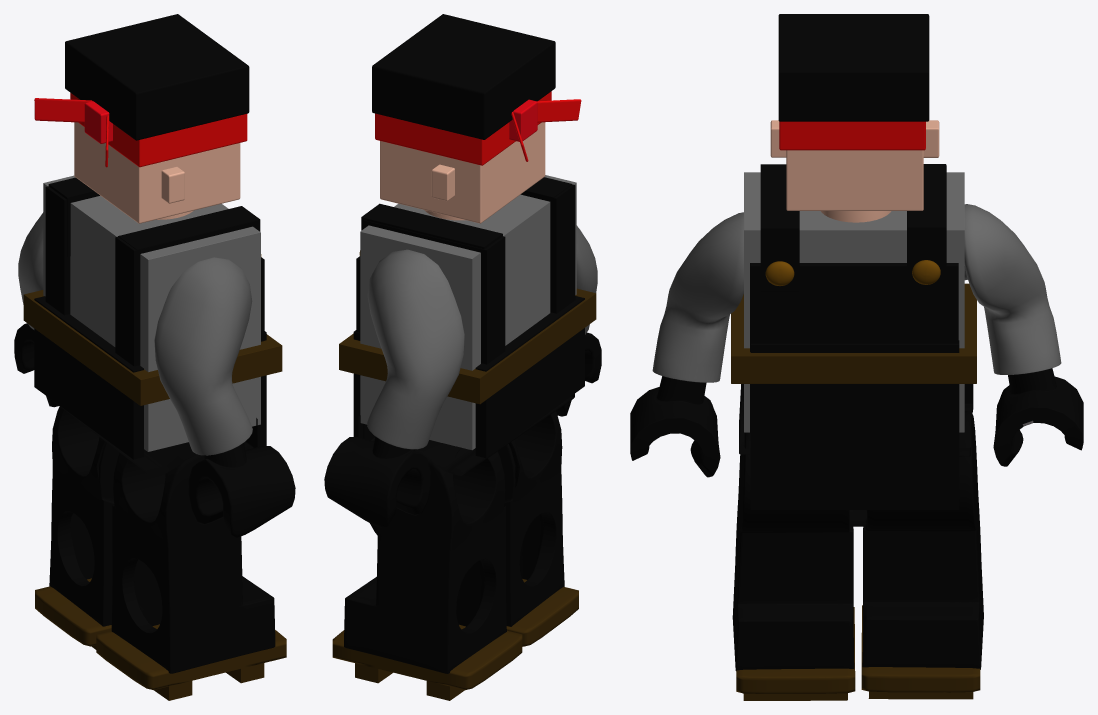
Rendered from Bonito Factory new character.fbx.
3 renders of one model, left to right at view 1: azimuth 30°, elevation 25°; view 2: azimuth 150°, elevation 25°; view 3: azimuth 270°, elevation 25°, orthographic. The views are drawn at different scales.
Visible parts, largest first — view 1: body, head, right leg, right arm, left leg, left arm; view 2: body, head, left leg, left arm, right leg, right arm; view 3: body, head, left leg, right leg, left arm, right arm.
Part boxes in pixels (<box>): body: <box>23,175,282,500</box>; head: <box>34,14,249,223</box>; right leg: <box>96,442,286,700</box>; right arm: <box>154,257,295,537</box>; left leg: <box>35,406,119,649</box>; left arm: <box>14,212,58,407</box>; body: <box>339,175,596,487</box>; head: <box>372,14,581,223</box>; left leg: <box>332,440,522,700</box>; left arm: <box>324,249,464,528</box>; right leg: <box>498,411,578,646</box>; right arm: <box>556,225,601,416</box>; body: <box>731,164,976,526</box>; head: <box>770,14,939,210</box>; left leg: <box>861,411,983,699</box>; right leg: <box>732,432,855,700</box>; left arm: <box>964,204,1083,466</box>; right arm: <box>630,212,743,477</box>.
Bounding box in the file's own units: 680 × 2271 × 1481.
